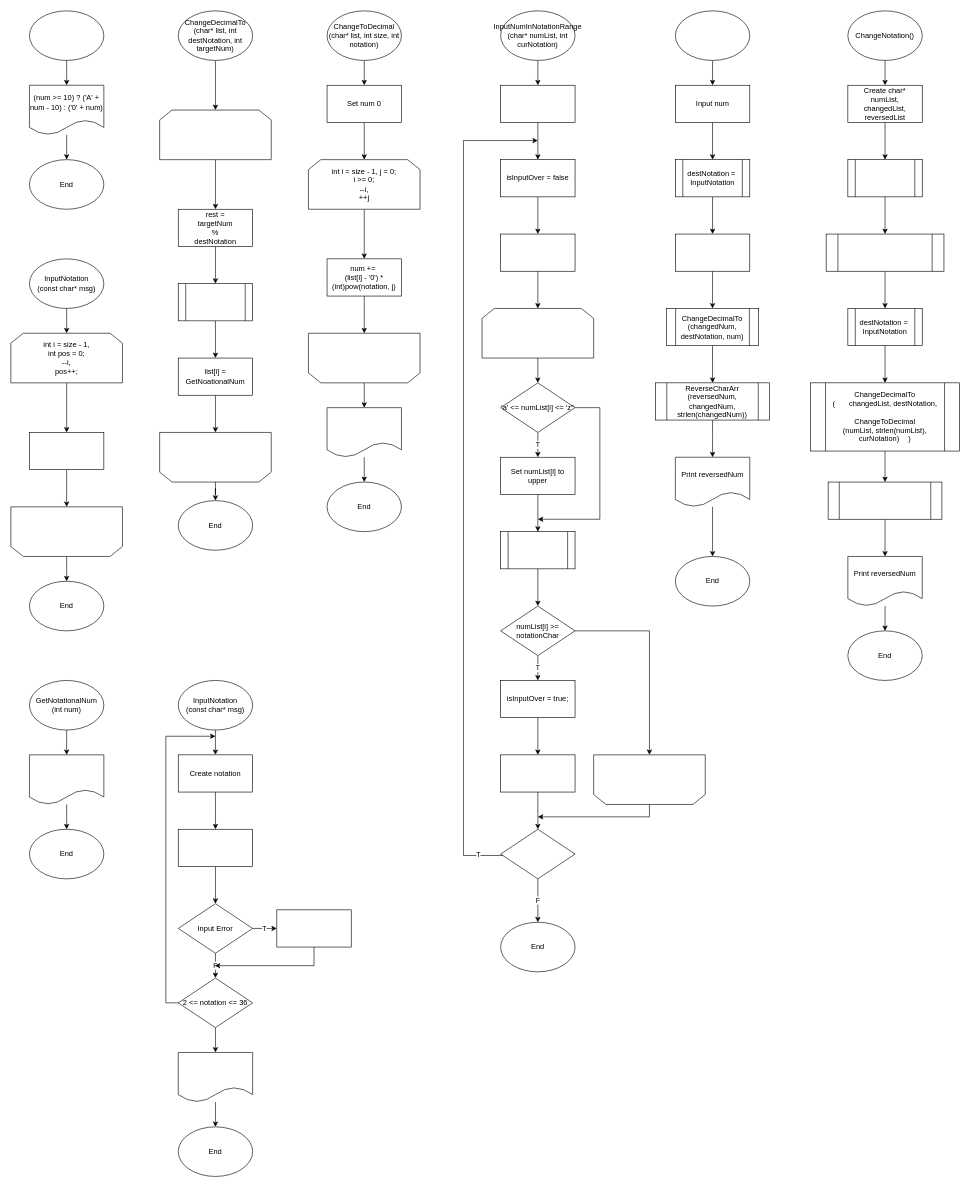
Some shapes in this 970 by 1187 pixel diagram are drawn without their labels. Each missing label, with the centre of its shape:
"Break" belongs at (x=537, y=773).
"ChangeDecimal()" belongs at (x=712, y=35).
"Clear Buffer" belongs at (x=313, y=928).
"Create char* changedNum reversedNum" belongs at (x=712, y=252).
"Create isInputOver" belongs at (x=537, y=103).
"curNotation = InputNotation" belongs at (x=884, y=178).
"GetNoationalNum" belongs at (x=215, y=302).
"GetNotionalNum(int num)" belongs at (x=66, y=35).
"Input char* data to notation" belongs at (x=215, y=847).
"Input char* data to numList" belongs at (x=537, y=252).
"InputNumInNotationRange (numList, curNotation)" belongs at (x=885, y=252).
"int i = 0; numList[i] != '\0'; ++i" belongs at (x=537, y=333).
"int i = 0; targetNum > 0; targetNum /= destNotation, ++i" belongs at (x=215, y=134).
"isInputOver" belongs at (x=537, y=854).
"notationChar = GetNotationalNum (curNotation)" belongs at (x=537, y=550).
"Return (num>=10) ? ('A' + num - 10) : ('0' + num)" belongs at (x=66, y=779).
"Return notation" belongs at (x=215, y=1077).
"Return num" belongs at (x=363, y=432).
"ReverseCharArr (reversedList, changedList, strlen(changedList))" belongs at (x=885, y=500).
"reversedList[pos] = list[i]" belongs at (x=66, y=451).
